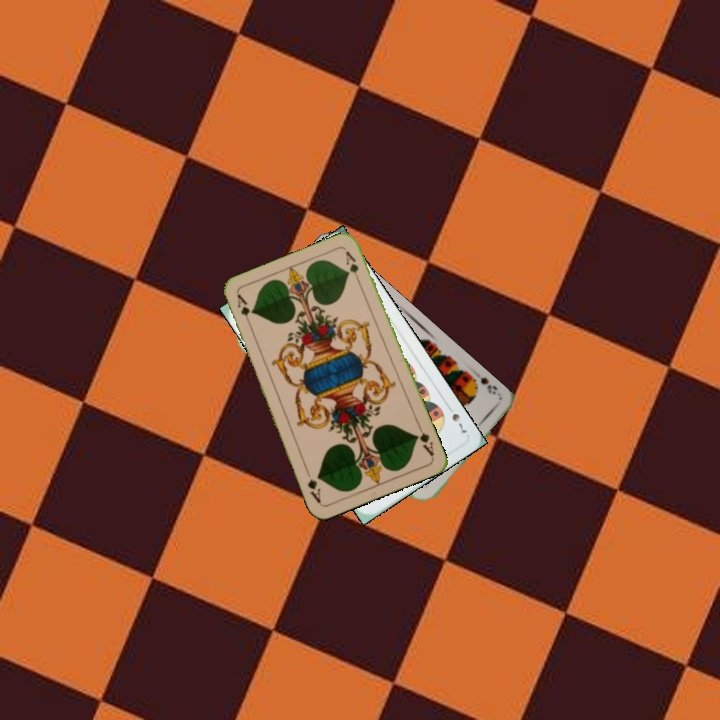GA: (412, 420, 437, 459), (233, 290, 254, 329)
S7: (443, 401, 469, 437)
S9: (466, 372, 500, 397)
